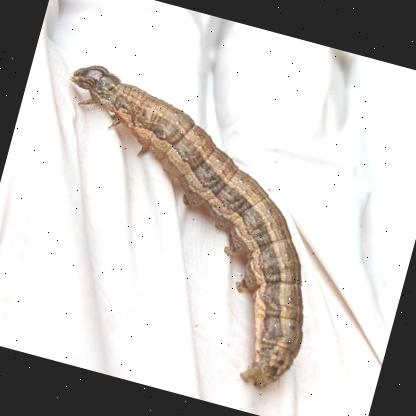Fall Armyworm Larvae: (1, 48, 367, 402)
